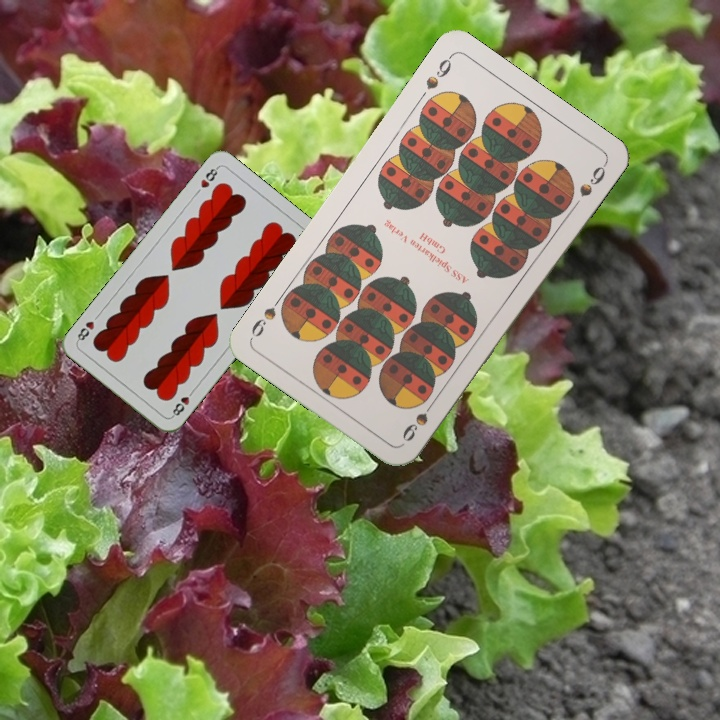H8: (168, 385, 197, 420), (196, 163, 221, 191)
S9: (398, 394, 439, 445), (421, 51, 455, 93)
